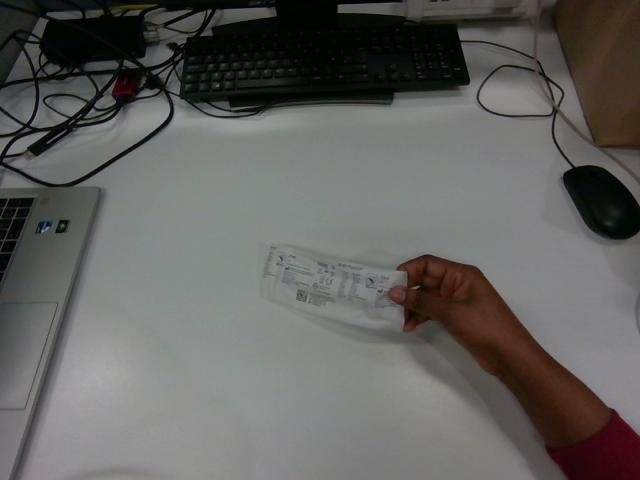syringe: (261, 245, 406, 330)
